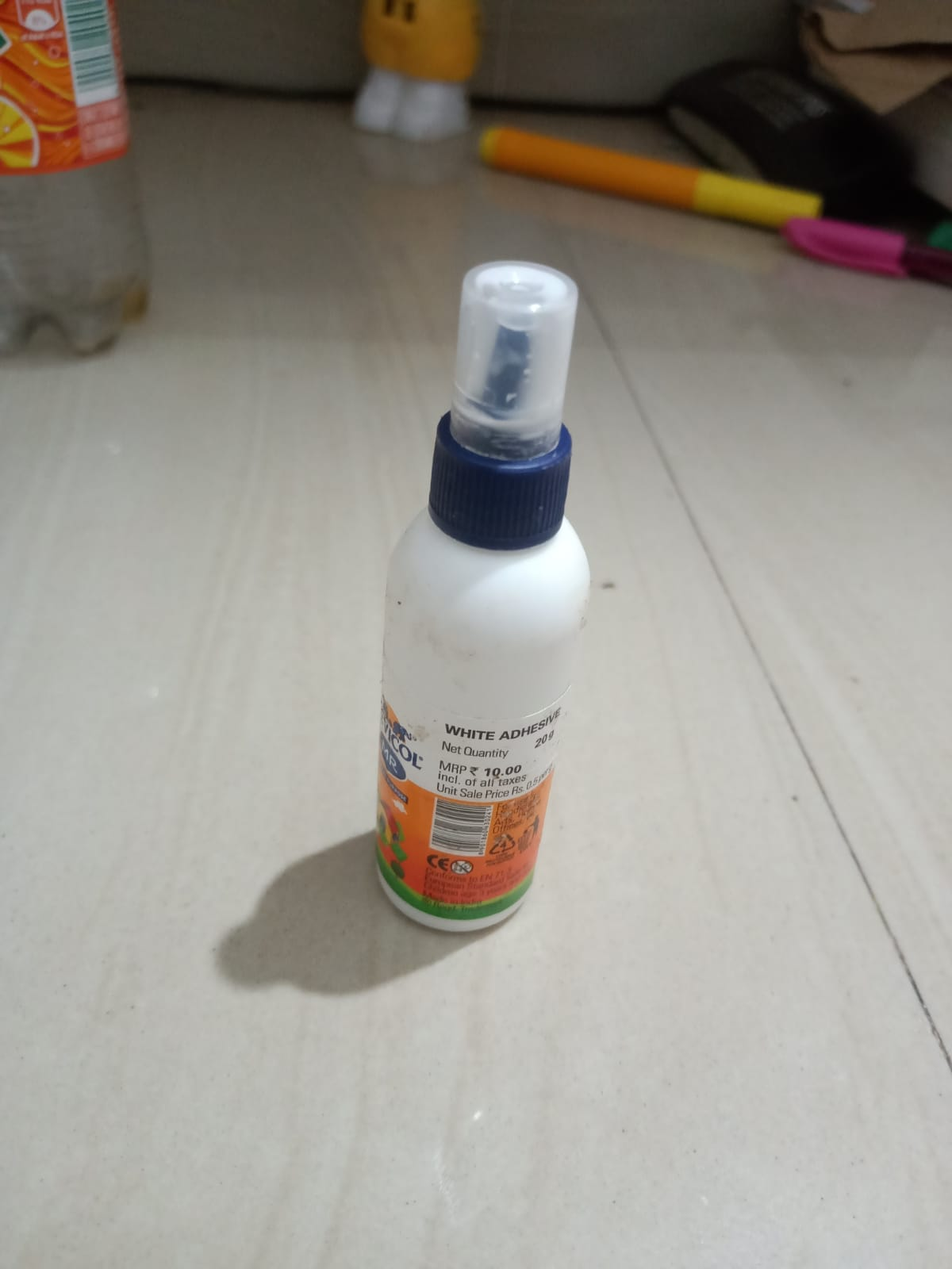plastic: (350, 223, 619, 1047)
